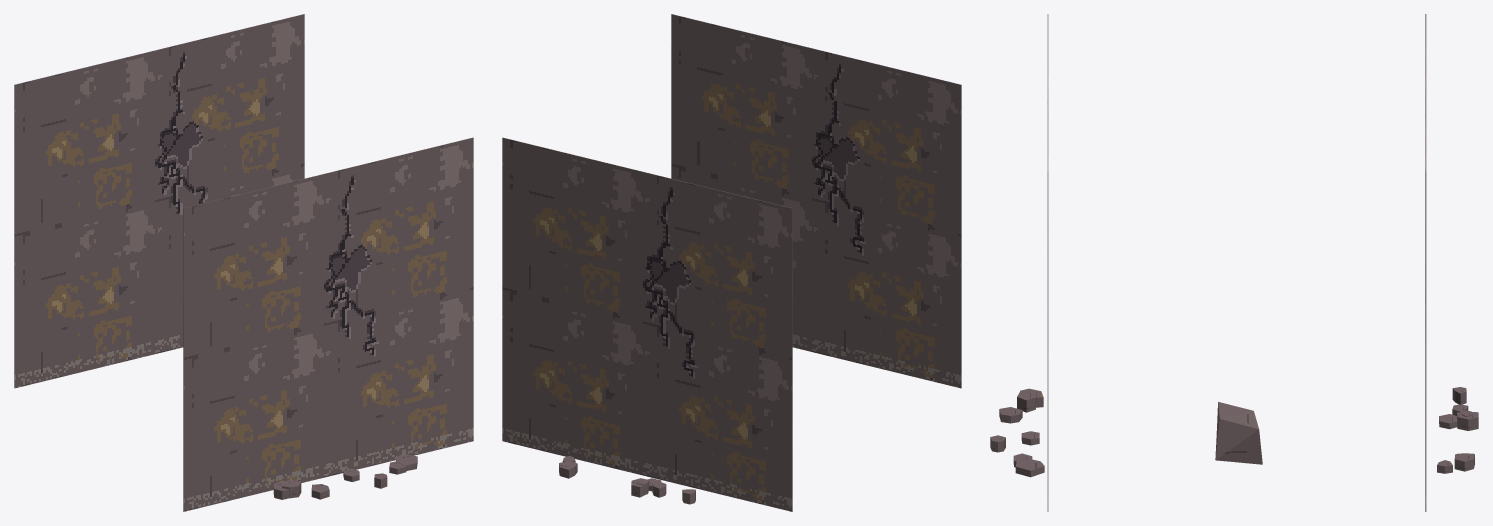
The model's file is cracked_wall_b.glb.
The picture shows the model from 3 angles, left to right: view 1: azimuth 30°, elevation 25°; view 2: azimuth 150°, elevation 25°; view 3: azimuth 270°, elevation 25°; orthographic projection. The views are drawn at different scales.
Visible parts, largest first — view 1: panel_front, panel_back, debris_front; view 2: panel_back, panel_front, debris_back; view 3: chunk, debris_front, debris_back, panel_back, panel_front.
Part boxes in pixels (x1,y1,x2,y2): panel_front: (183,137,473,511); panel_back: (14,14,304,388); debris_front: (273,454,417,499); panel_back: (502,137,792,511); panel_front: (671,14,961,388); debris_back: (559,455,695,504); chunk: (1215,402,1262,464); debris_front: (990,388,1044,477); debris_back: (1437,387,1478,473); panel_back: (1425,14,1426,511); panel_front: (1047,14,1048,511).
Size of the model in its own units: 2 by 2.14 by 2.61.
1 material, 1 textured.
